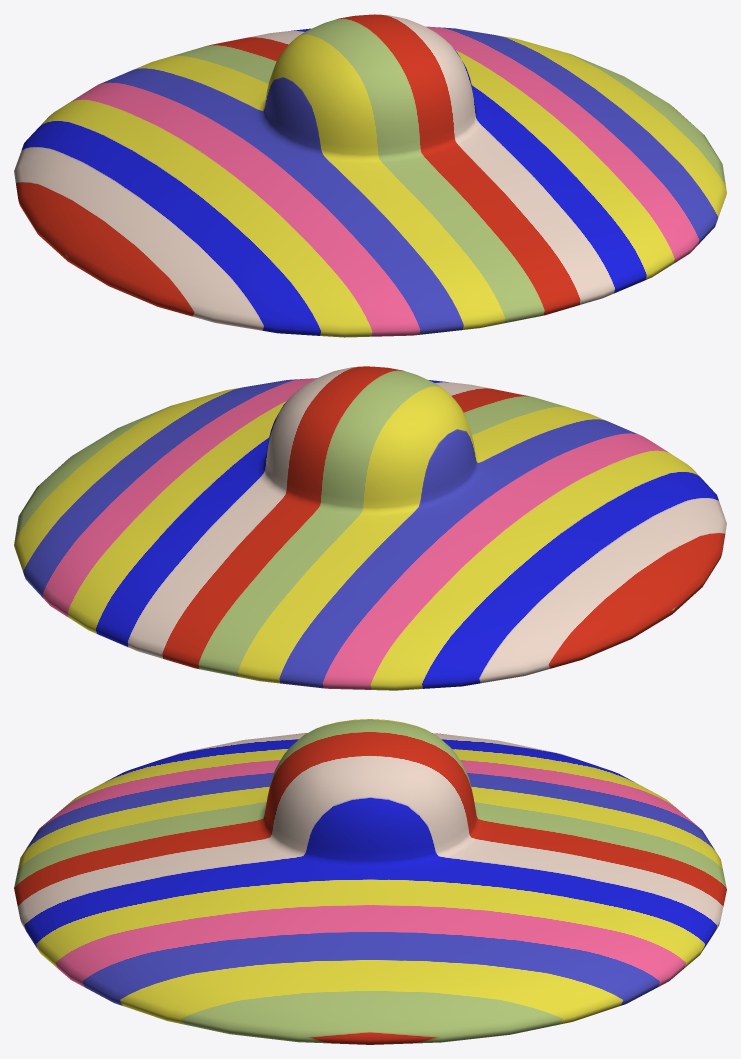
The model's file is C-3_Onstick.fbx.
3 renders of one model, top to bottom at view 1: azimuth 30°, elevation 25°; view 2: azimuth 150°, elevation 25°; view 3: azimuth 270°, elevation 25°, orthographic.
Visible parts, largest first — view 1: C-3; view 2: C-3; view 3: C-3.
Boxes of the visible parts, x1=… form: C-3: x1=14, y1=14, x2=726, y2=337; C-3: x1=14, y1=366, x2=726, y2=690; C-3: x1=14, y1=719, x2=726, y2=1044.
Bounding box in the file's own units: 1.58 × 0.6697 × 1.58.
Materials: 1 (1 with a texture image).
